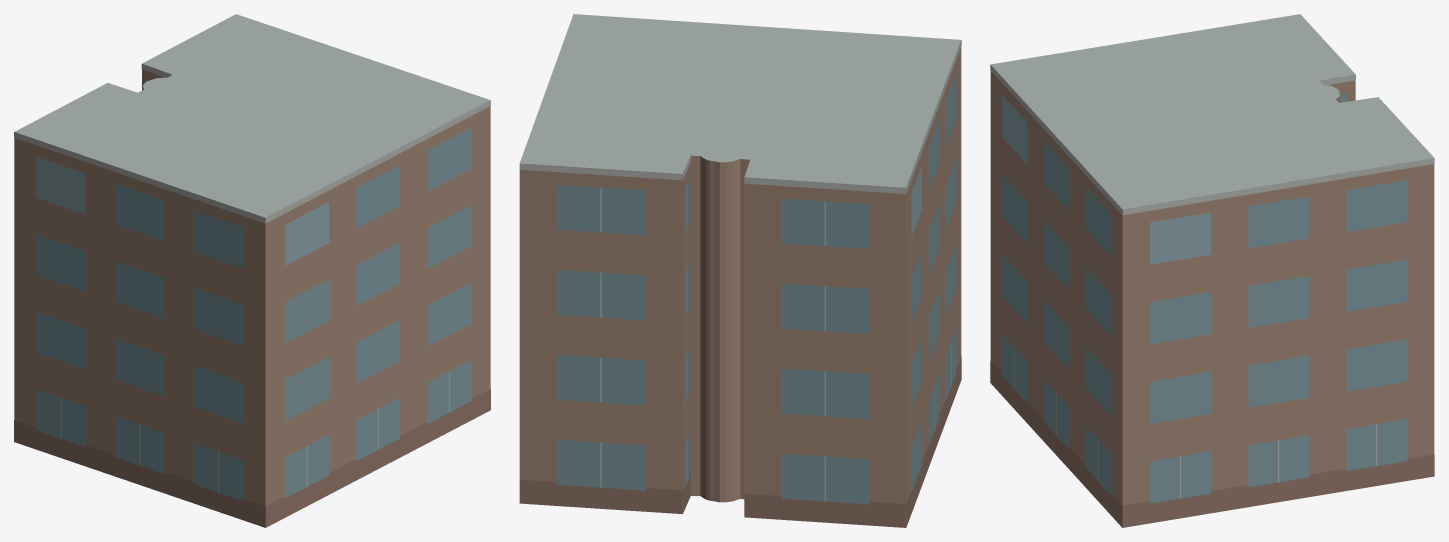
Rendered from survey-upis-32881762.glb.
3 renders of one model, left to right at view 1: azimuth 30°, elevation 25°; view 2: azimuth 150°, elevation 25°; view 3: azimuth 270°, elevation 25°, orthographic. The views are drawn at different scales.
Parts seen in each view (by area): view 1: survey-upis-32881762.tmp; view 2: survey-upis-32881762.tmp; view 3: survey-upis-32881762.tmp.
Part boxes in pixels (bbox=[...]): survey-upis-32881762.tmp: bbox=[14, 14, 490, 527]; survey-upis-32881762.tmp: bbox=[519, 14, 961, 527]; survey-upis-32881762.tmp: bbox=[990, 14, 1434, 527].
Size of the model in its own units: 17.25 by 13.1 by 16.56.
